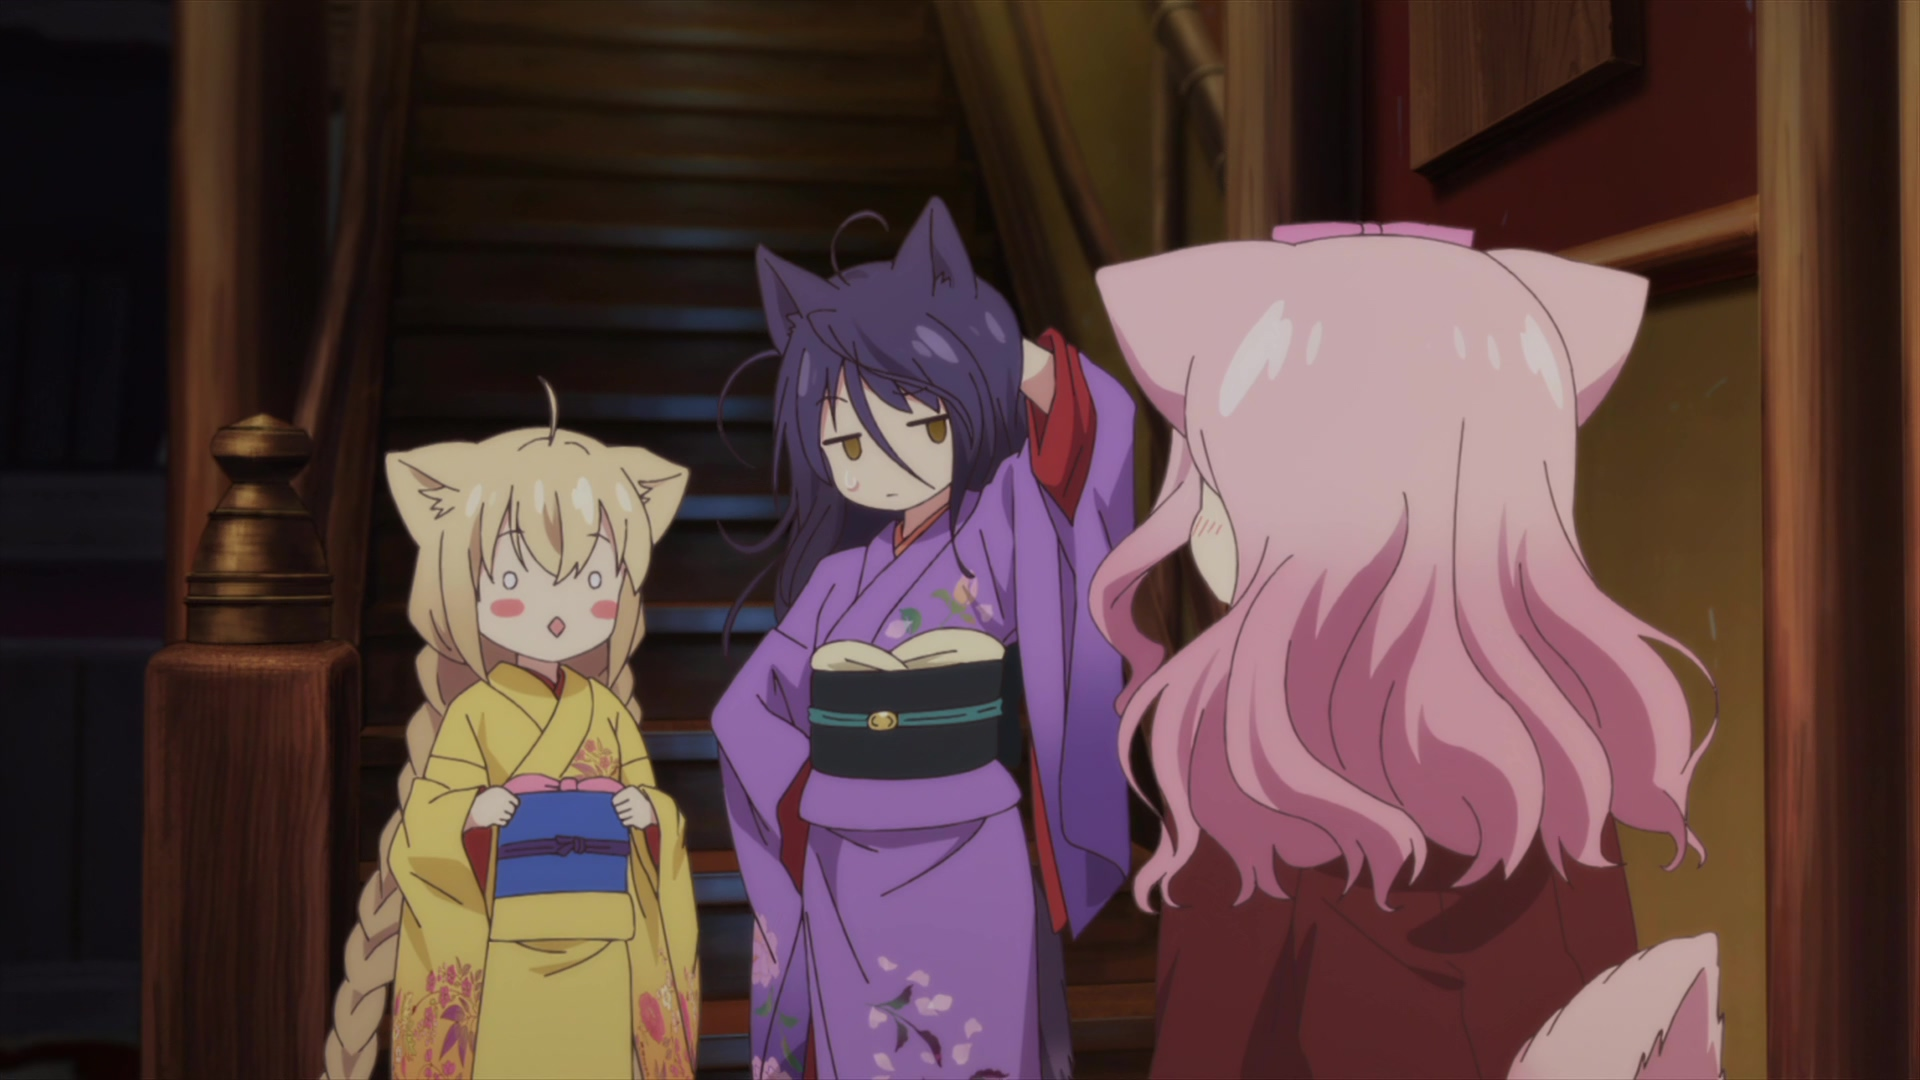柚: (323, 372, 700, 1080)
皋: (708, 194, 1134, 1080)
莲: (1087, 222, 1724, 1080)
